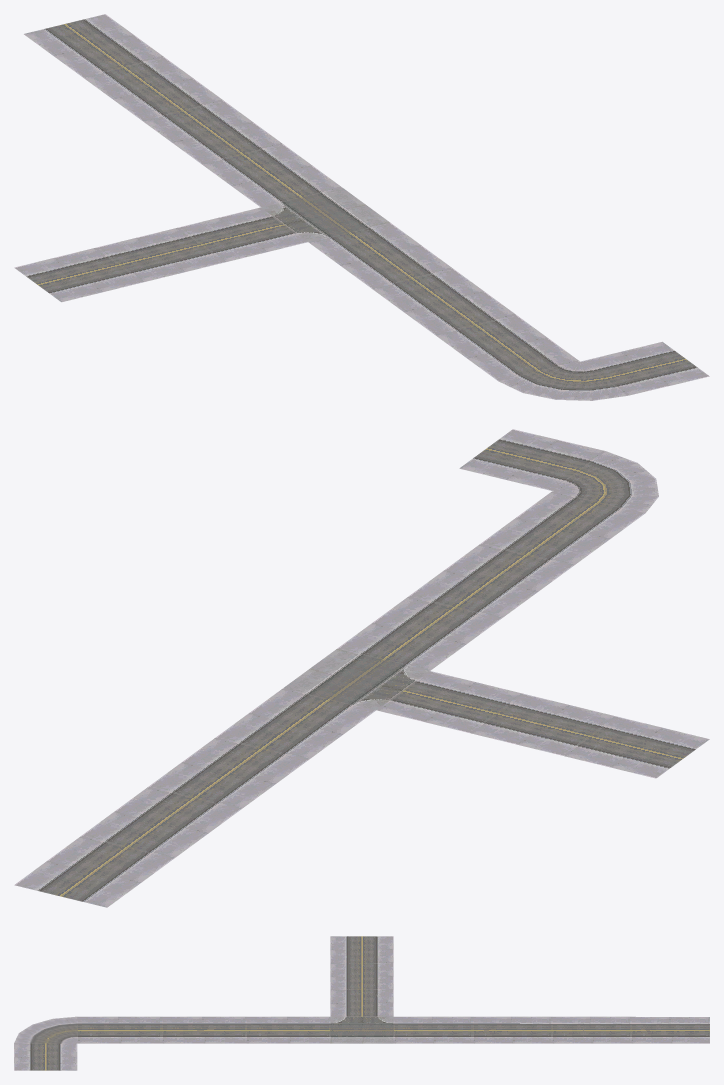
Rendered from lodaseroad110.obj.
The picture shows the model from 3 angles, top to bottom: view 1: azimuth 30°, elevation 25°; view 2: azimuth 150°, elevation 25°; view 3: azimuth 270°, elevation 25°; orthographic projection. The views are drawn at different scales.
Parts seen in each view (by area): view 1: lodasEroad110; view 2: lodasEroad110; view 3: lodasEroad110.
Part boxes in pixels (x1,y1,x2,y2): lodasEroad110: (14,14,709,400); lodasEroad110: (14,429,709,907); lodasEroad110: (14,936,709,1070).
Size of the model in its own units: 100 by 0.1559 by 220.
2 materials, 2 textured.
